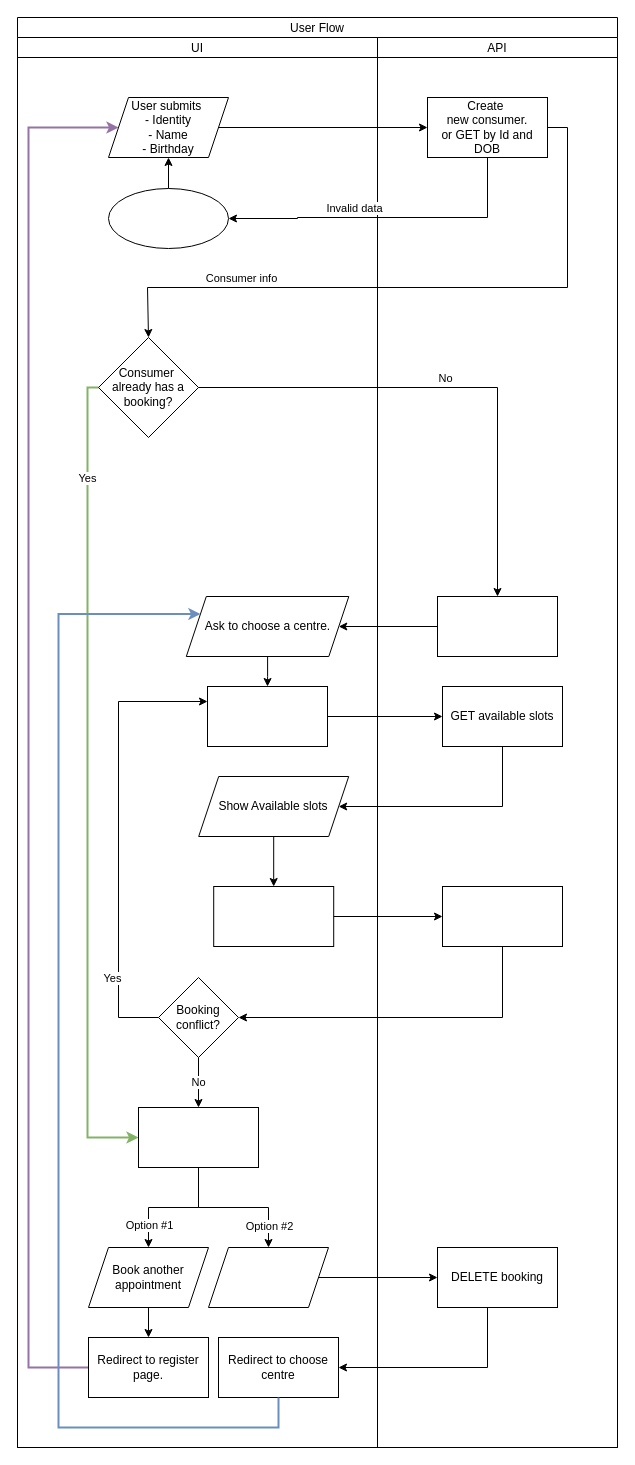
Some shapes in this 635 by 1465 pixel diagram are drawn without their labels. The shapes that lost their labels are listed below. From the top down, each one's box as (x1, y1, x2, y2) in pixels, then its label:
(108, 188, 228, 248): Handle exception & Shows error in UI.
(436, 596, 558, 656): GET centres list
(206, 686, 328, 746): Select month and day to get the slots
(213, 886, 334, 946): Submit all the details
(442, 886, 562, 946): POST booking
(138, 1106, 258, 1168): Shows booking details.
(208, 1246, 328, 1308): Cancel and book again
